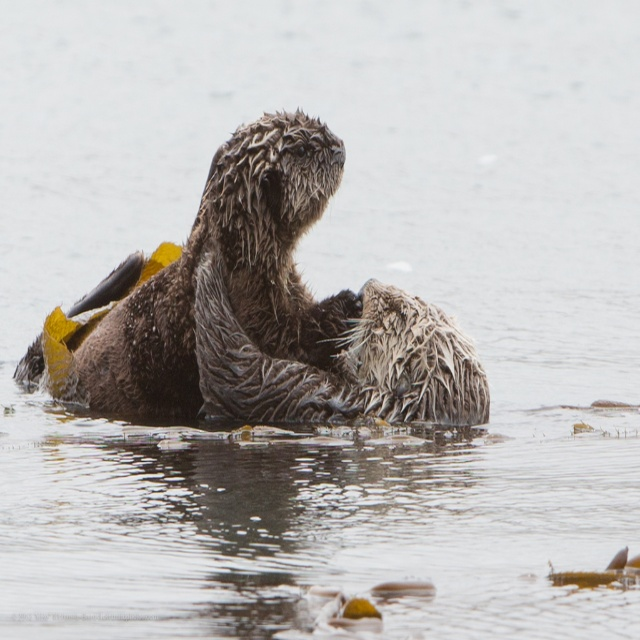Otter: (16, 106, 364, 424)
